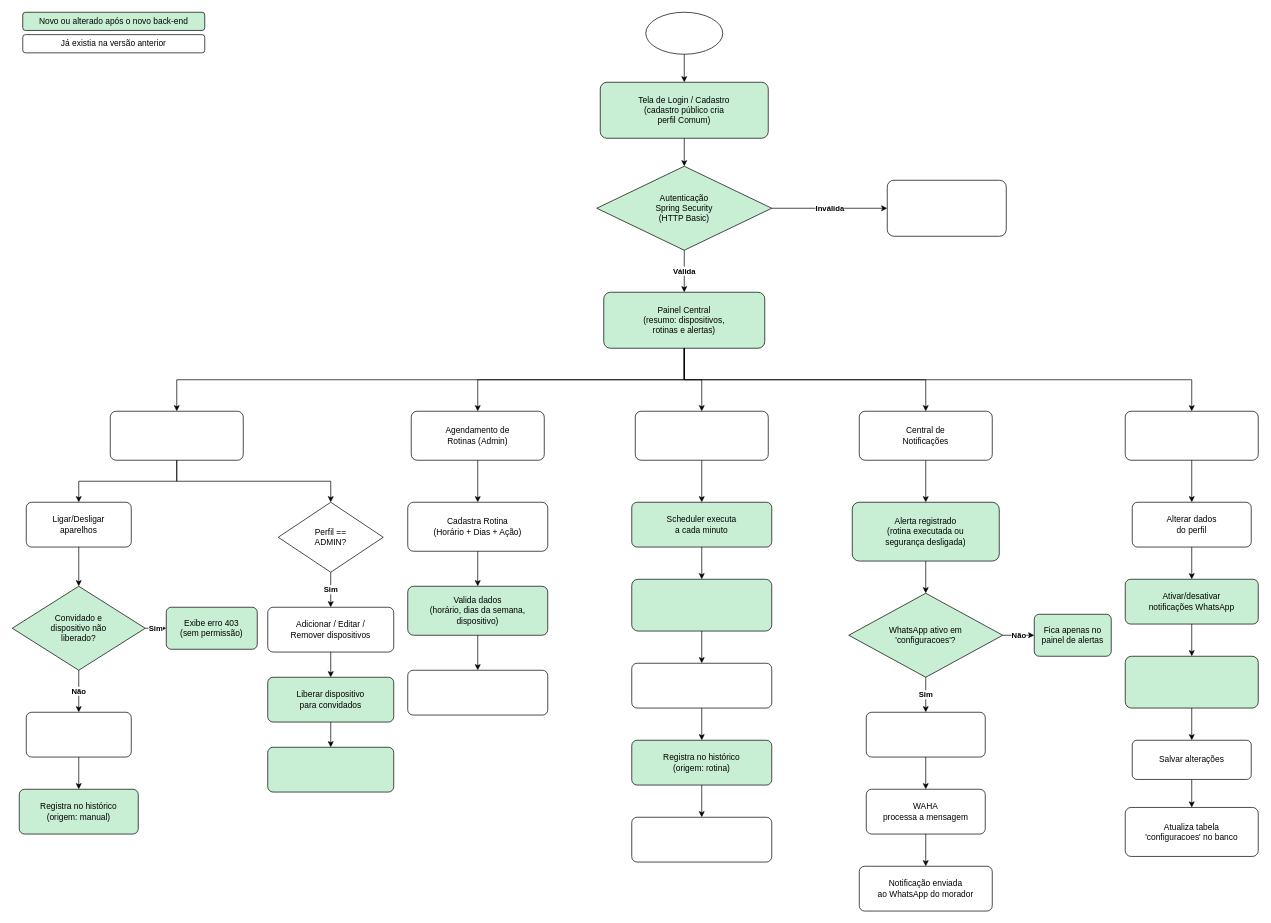
Some shapes in this 1271 by 923 pixel diagram are drawn without their labels. The shapes that lost their labels are listed below. From the top down, each one's centre as x and y in pixels, then its label:
At point 684,33: "INÍCIO".
At point 946,208: "Exibe erro (e-mail ou senha inválidos)".
At point 176,435: "Gestão de Dispositivos".
At point 701,435: "Processamento Automático".
At point 1191,435: "Tela de Configuração".
At point 701,605: "Verifica horário e dia da semana x rotinas ativas".
At point 477,692: "Salva na tabela 'rotinas'".
At point 701,685: "Dispara acionamento do dispositivo".
At point 1191,682: "Configurar integração (status, QR Code, teste)".
At point 78,734: "Atualiza status no PostgreSQL".
At point 925,734: "Backend envia requisição HTTP POST".
At point 330,769: "Consultar histórico de acionamentos".
At point 701,839: "Registra novo Alerta na tabela 'alertas'".
